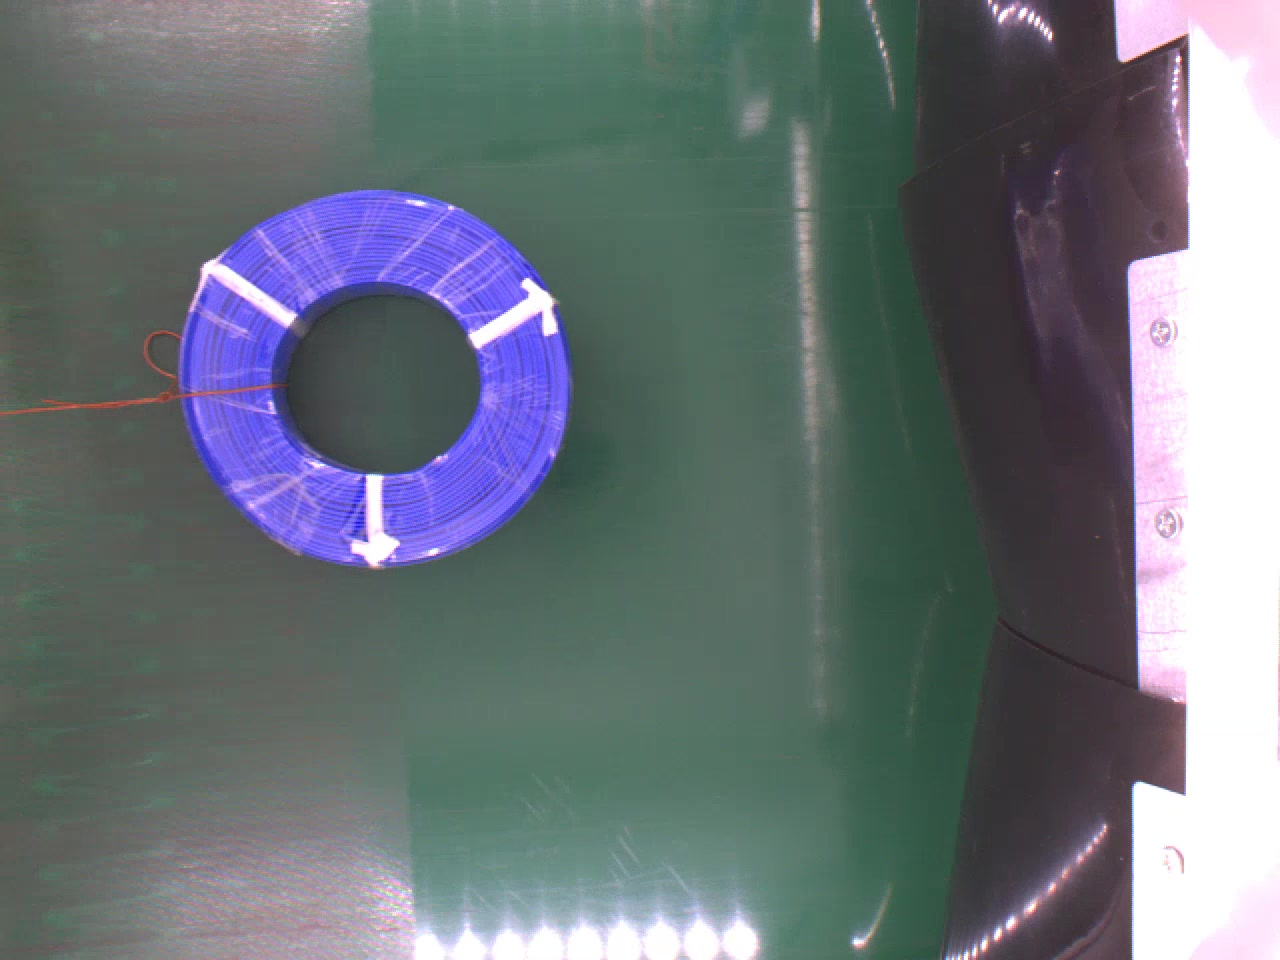blue: (179, 185, 571, 563)
